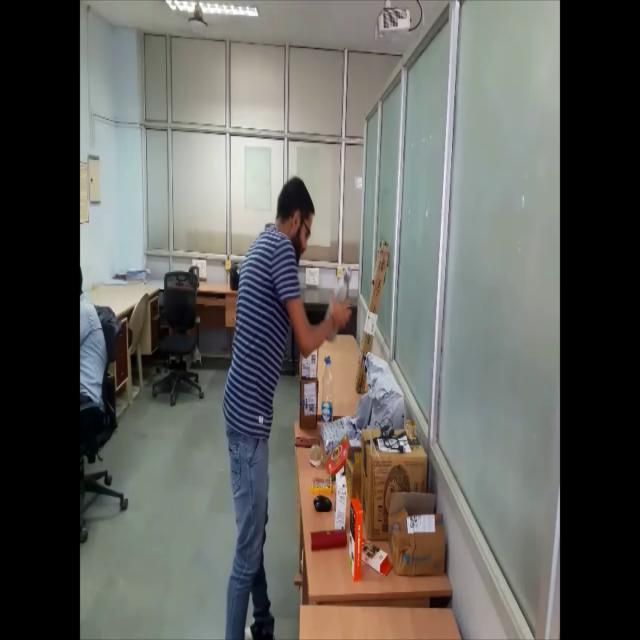normal: (220, 176, 355, 640)
